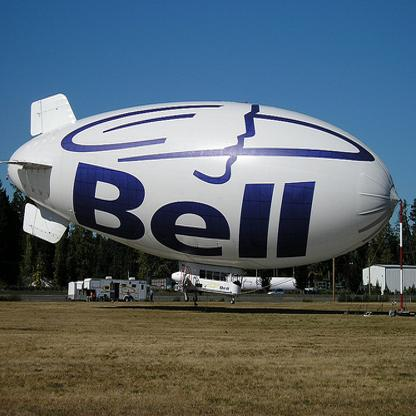Airship: (6, 93, 408, 285)
